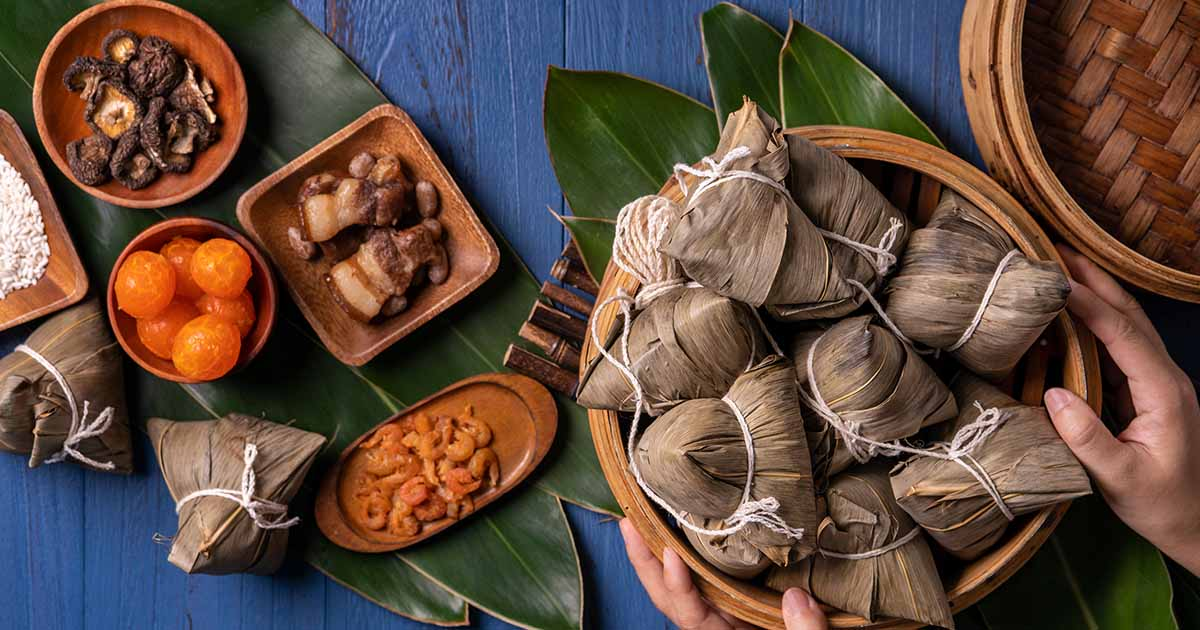zongzi: (660, 98, 834, 318), (634, 357, 816, 565), (890, 373, 1090, 559), (885, 190, 1069, 378), (768, 463, 952, 628), (147, 413, 324, 573), (792, 316, 957, 474), (576, 287, 771, 415), (780, 138, 909, 320), (0, 299, 132, 473)
